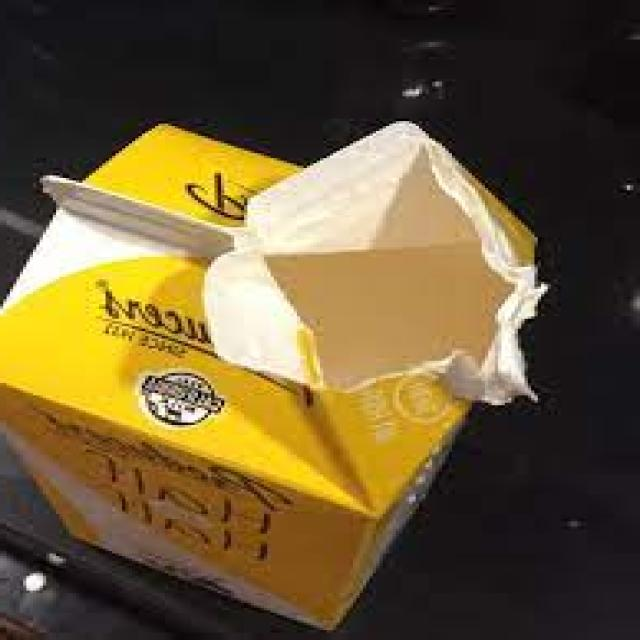cardboard: (0, 114, 553, 626)
